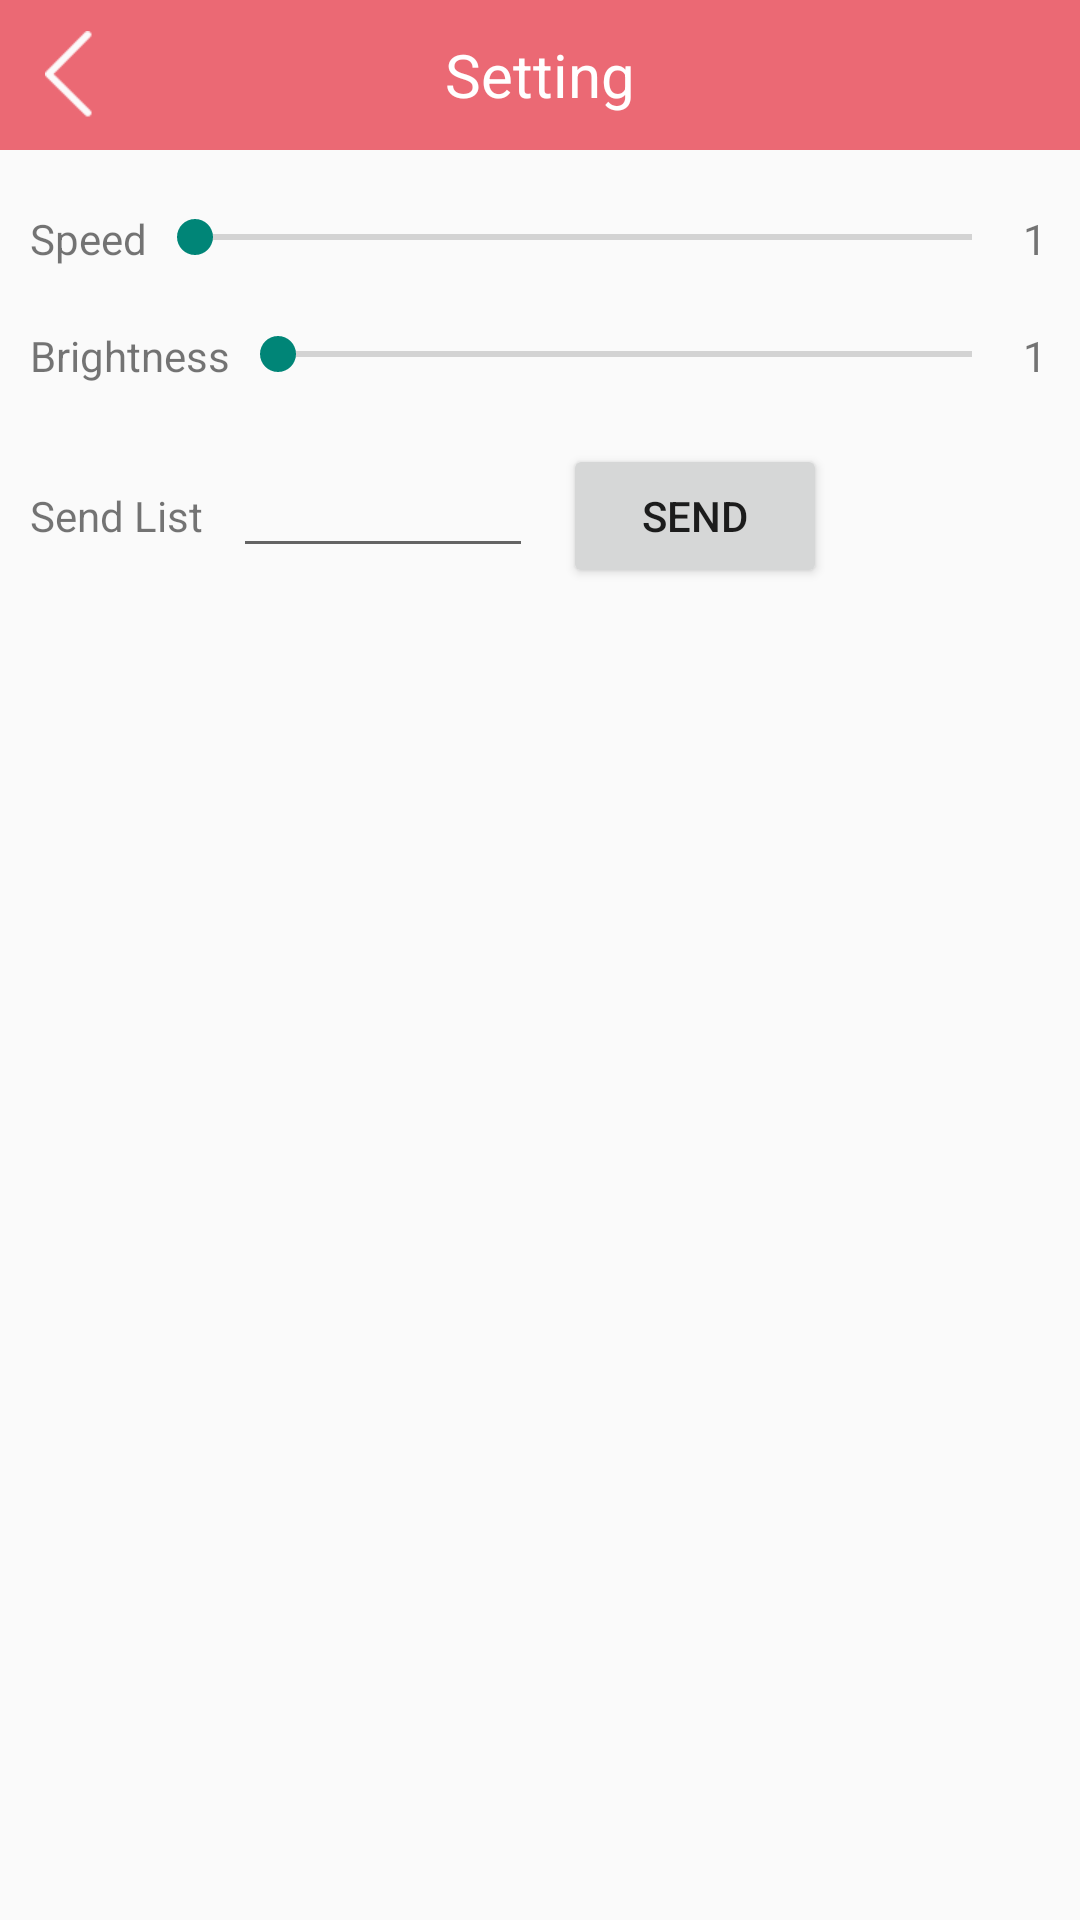

Where to tap for icons on this 1080px×1920px app screen, as [x,y]:
navigation back: [68,74]
